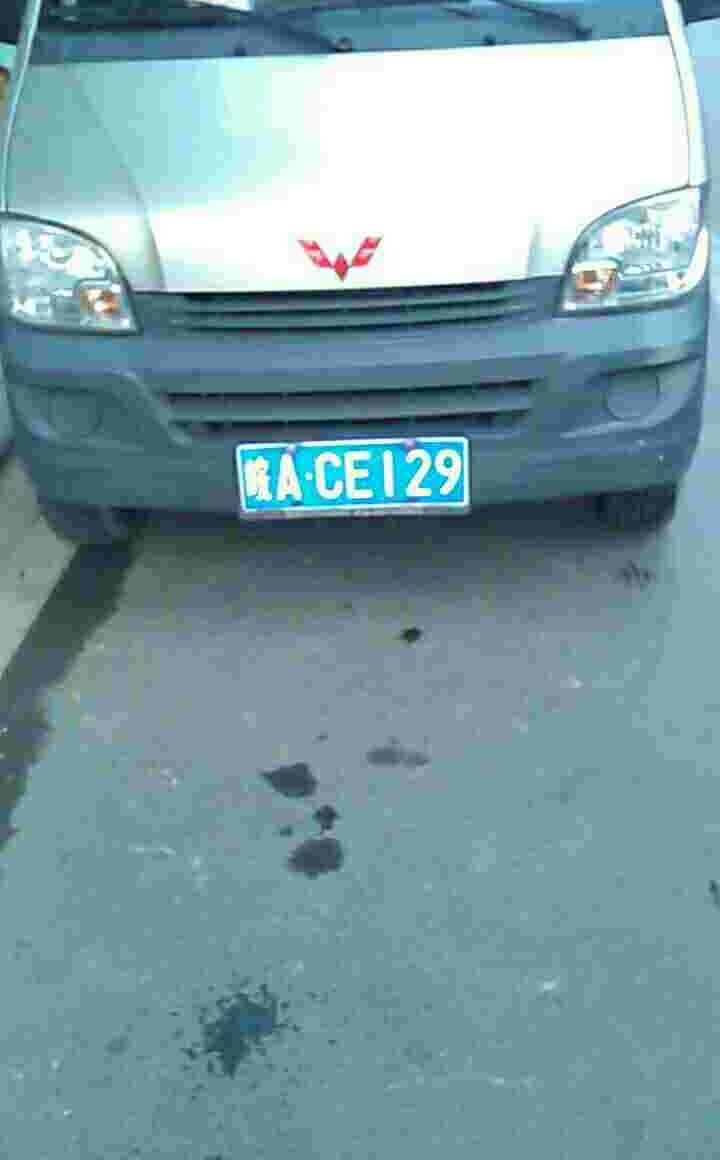license_plate: (243, 437, 475, 514)
